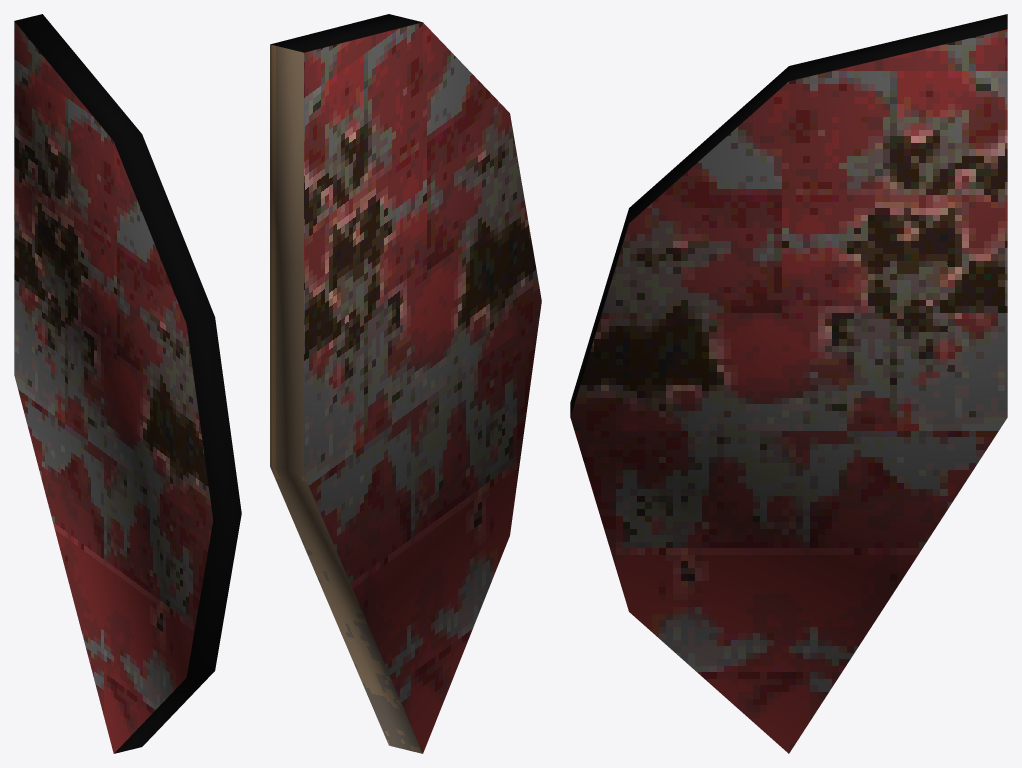
The model's file is Cylinder_red_side2_door-col.glb.
3 renders of one model, left to right at view 1: azimuth 30°, elevation 25°; view 2: azimuth 150°, elevation 25°; view 3: azimuth 270°, elevation 25°, orthographic. The views are drawn at different scales.
Visible parts, largest first — view 1: Cylinder_red_side2_door-col; view 2: Cylinder_red_side2_door-col; view 3: Cylinder_red_side2_door-col.
Part boxes in pixels (x1,y1,x2,y2): Cylinder_red_side2_door-col: (14,14,241,753); Cylinder_red_side2_door-col: (270,14,541,753); Cylinder_red_side2_door-col: (570,14,1007,753).
Bounding box in the file's own units: 0.1537 × 3.4 × 1.86.
1 material, 1 textured.
